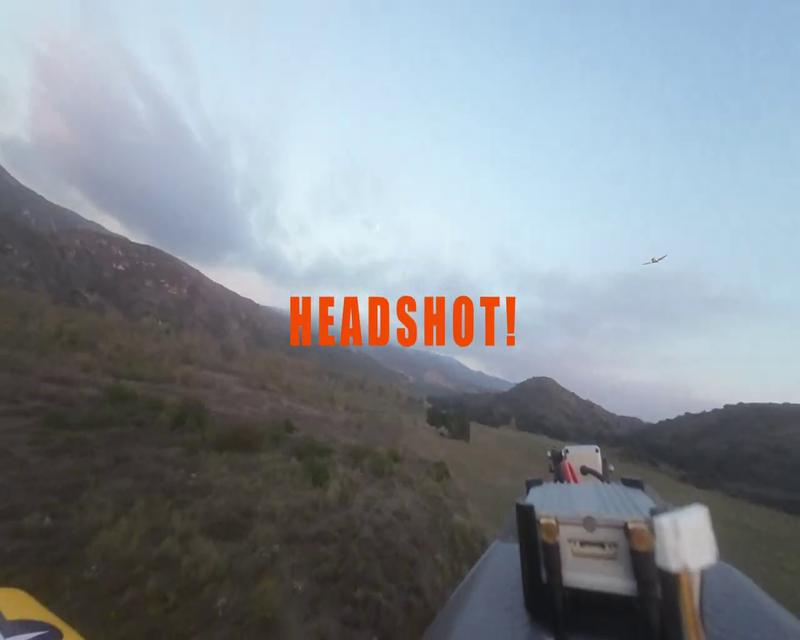UAV: (642, 254, 668, 266)
